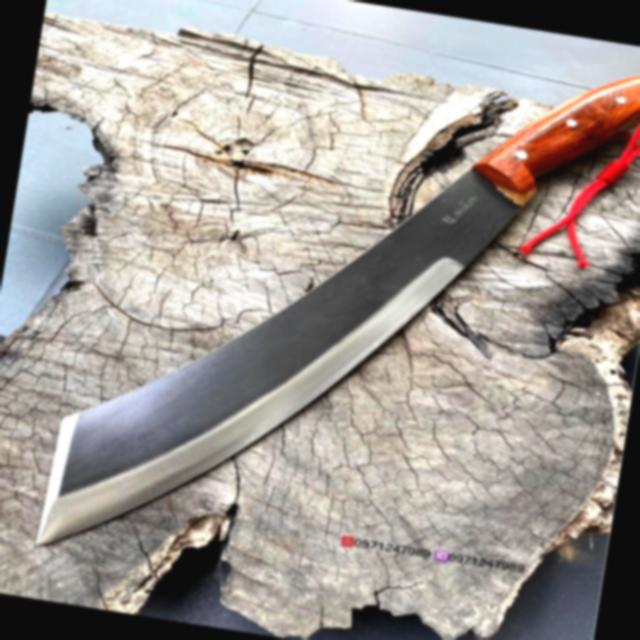eto: (27, 71, 640, 546)
